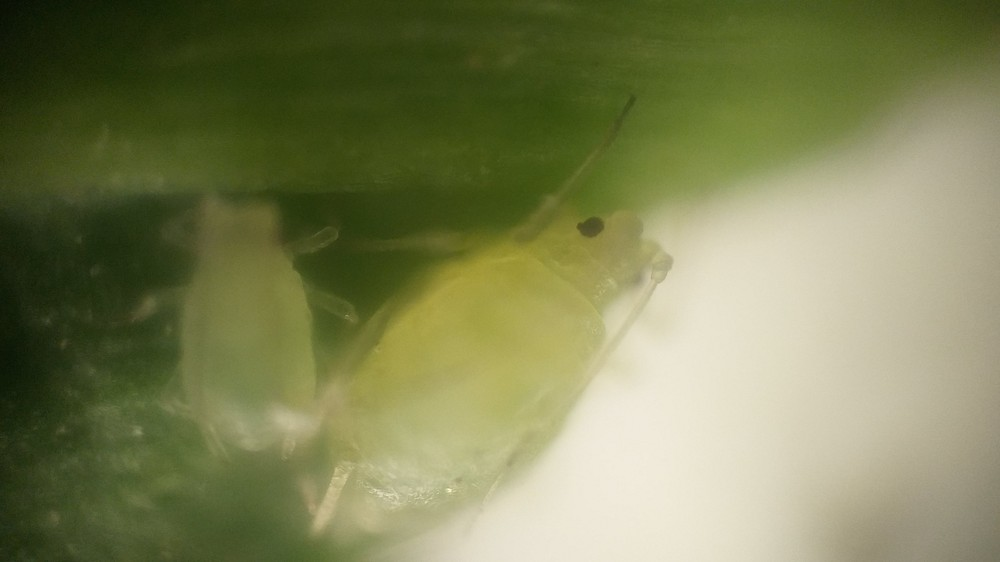Pulgon: (316, 125, 692, 549), (125, 176, 370, 472)
